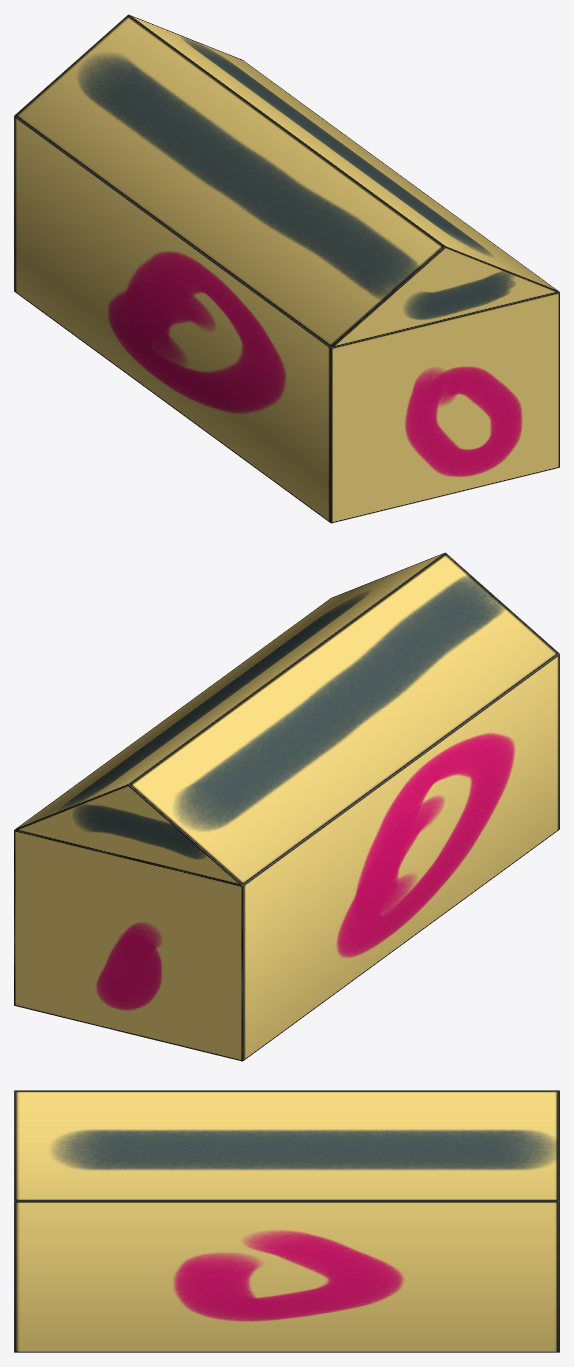
File: House2.fbx
3 views of the same model, one above another, from view 1: azimuth 30°, elevation 25°; view 2: azimuth 150°, elevation 25°; view 3: azimuth 270°, elevation 25° (orthographic). The views are drawn at different scales.
Visible parts, largest first — view 1: house2; view 2: house2; view 3: house2.
Part boxes in pixels (left/top/right/bottom): house2: left=14, top=14, right=559, bottom=523; house2: left=14, top=552, right=559, bottom=1061; house2: left=14, top=1090, right=559, bottom=1352.
Size of the model in its own units: 7 by 7.28 by 16.81.
Materials: 1 (1 with a texture image).
